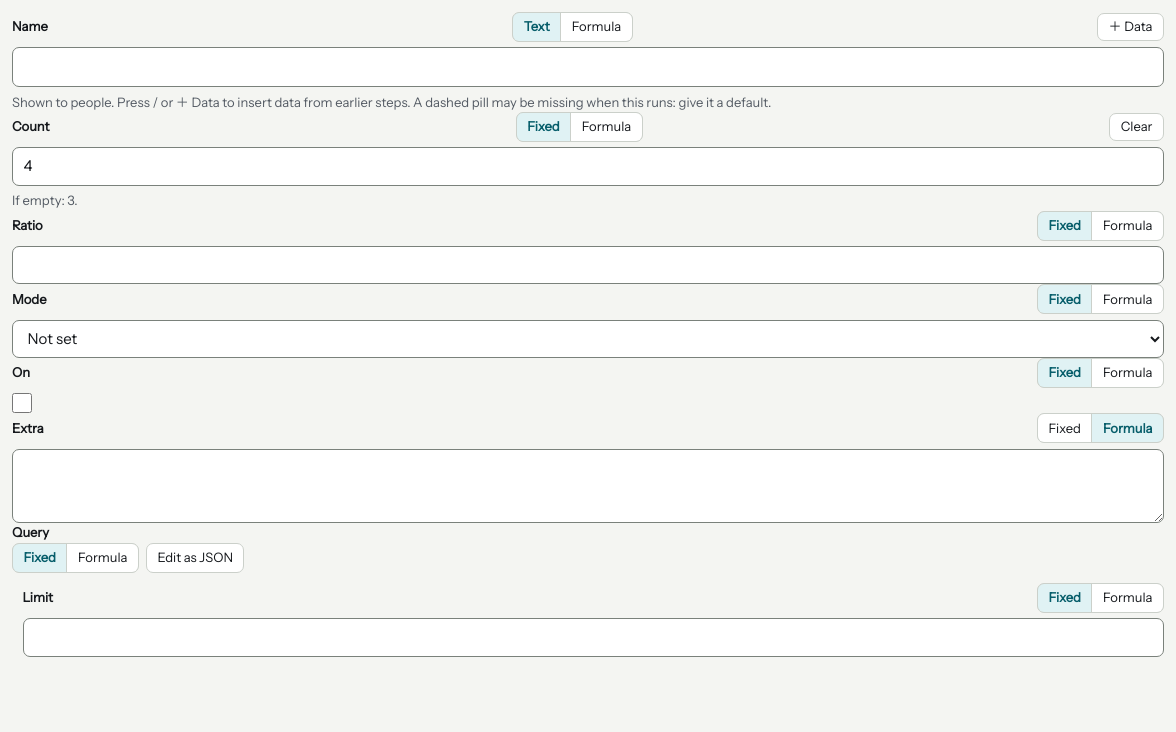
discards an edit not applied, on purpose
Type "x" into the field labelled "Count".
click(588, 167); type("x")  # box [12,147,1164,186]
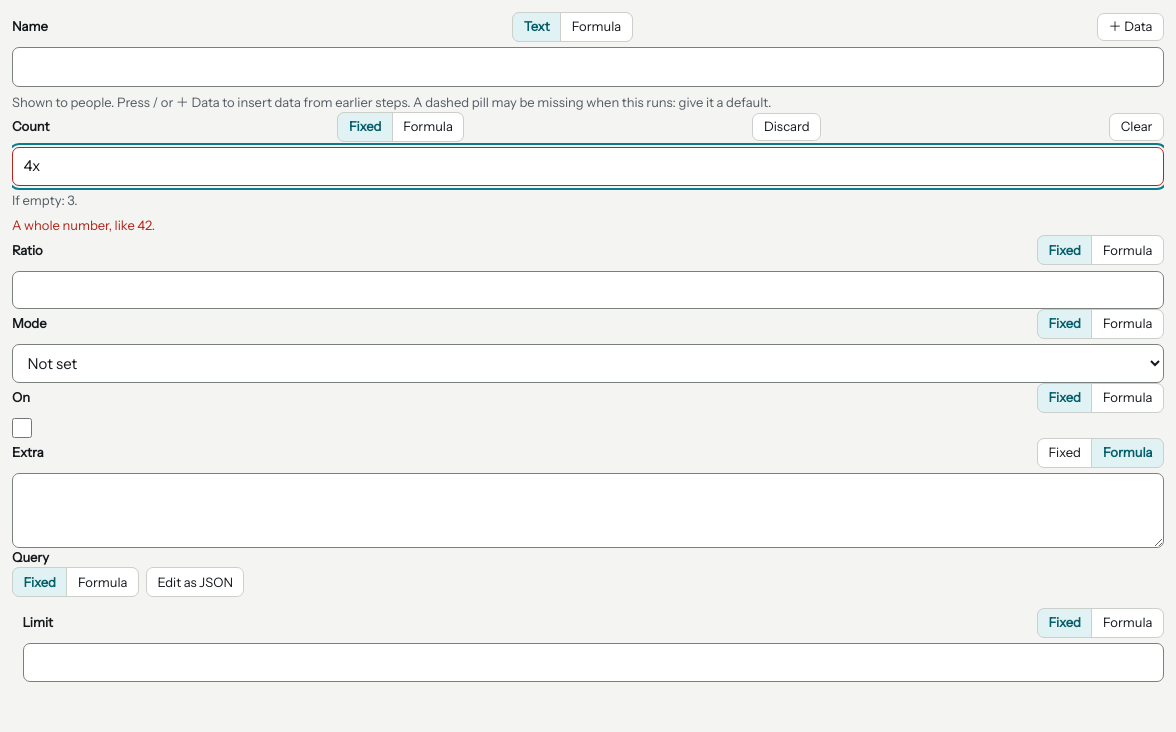
Click the button with aria-label "Discard the edit to Count".
click(787, 127)  # box [752,113,821,141]
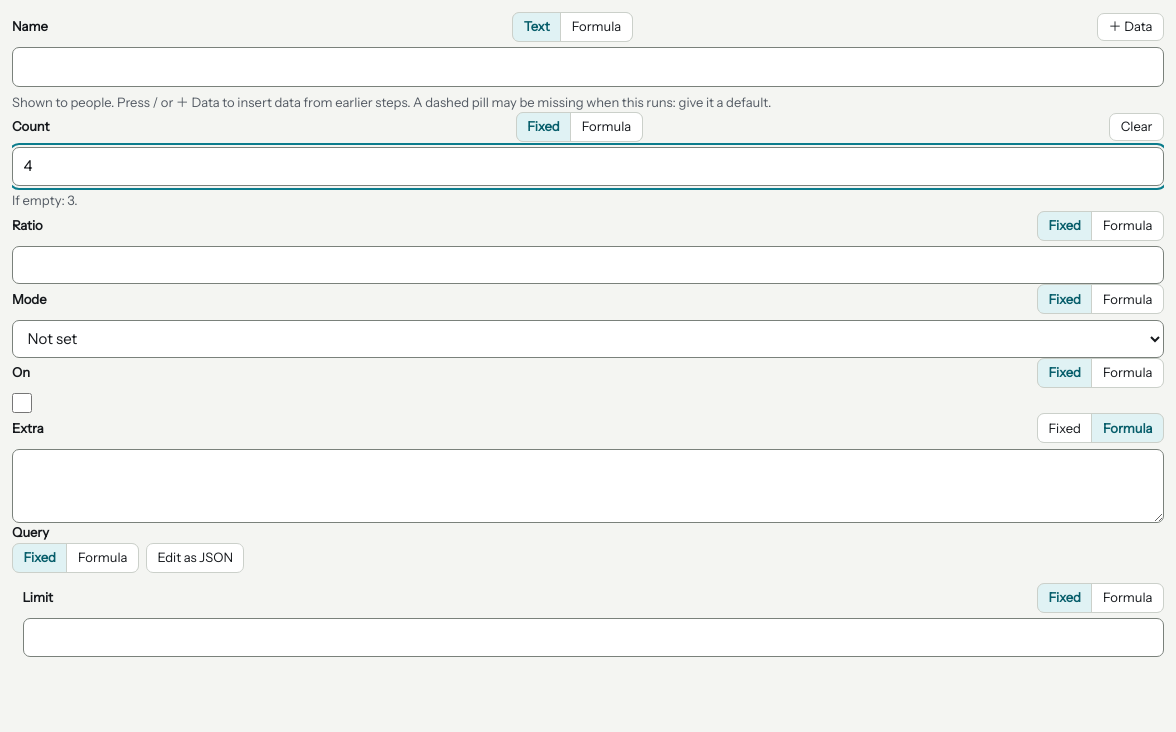
Expected: the field labelled "Count" holds "4", [12,147,1164,186]
